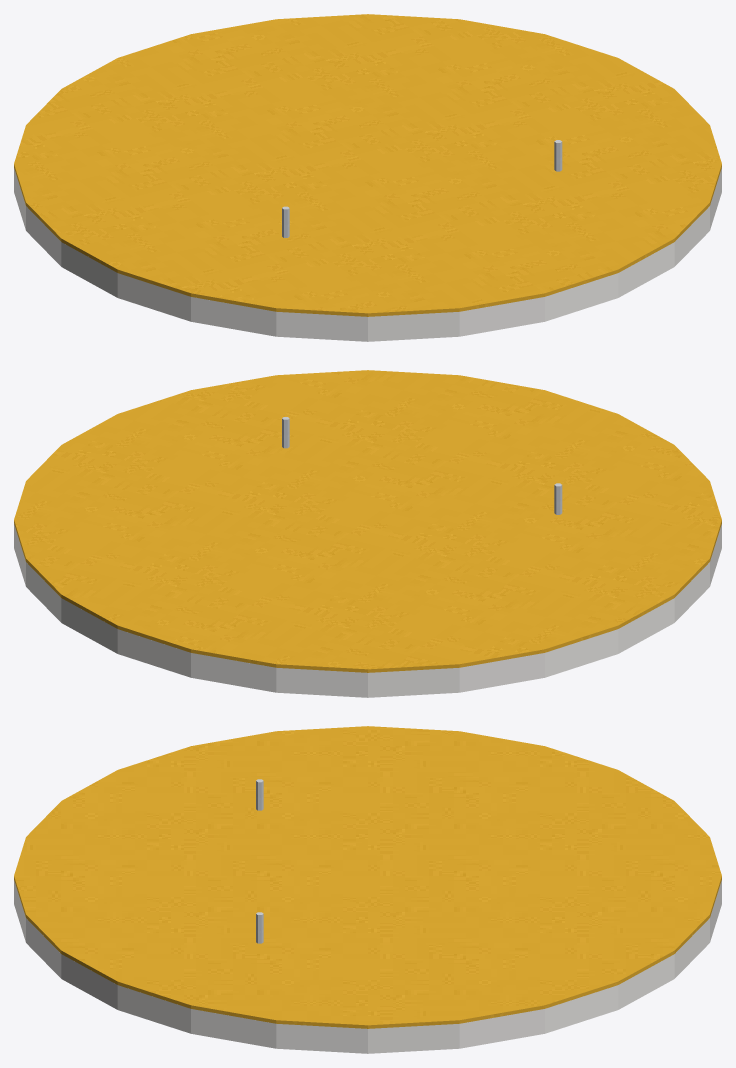
3 renders of one model, top to bottom at view 1: azimuth 30°, elevation 25°; view 2: azimuth 150°, elevation 25°; view 3: azimuth 270°, elevation 25°, orthographic.
Parts seen in each view (by area): view 1: Decor_mannequin_podium; view 2: Decor_mannequin_podium; view 3: Decor_mannequin_podium.
Part boxes in pixels (x1,y1,x2,y2): Decor_mannequin_podium: [14, 14, 721, 341]; Decor_mannequin_podium: [14, 370, 721, 697]; Decor_mannequin_podium: [14, 726, 721, 1053].
Size of the model in its own units: 3.6 by 0.32 by 3.6.
Materials: 3 (3 with a texture image).
